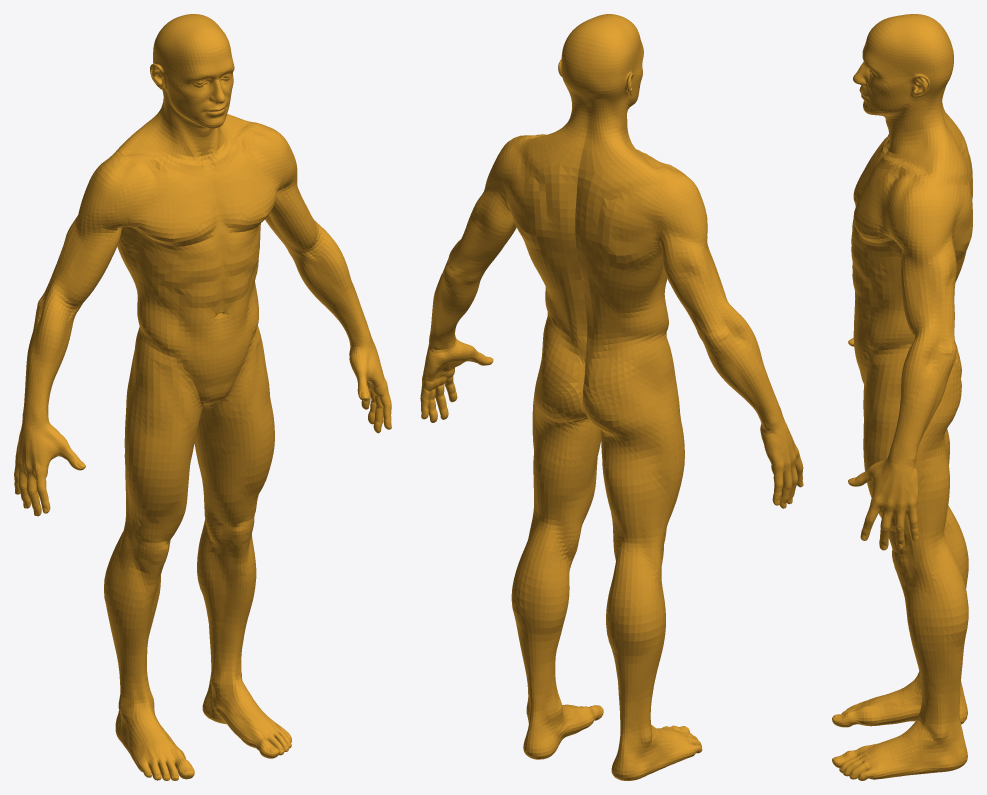
File: male.glb
3 views of the same model, side by side, from view 1: azimuth 30°, elevation 25°; view 2: azimuth 150°, elevation 25°; view 3: azimuth 270°, elevation 25° (orthographic).
Size of the model in its own units: 0.00939 by 0.018 by 0.00315.
